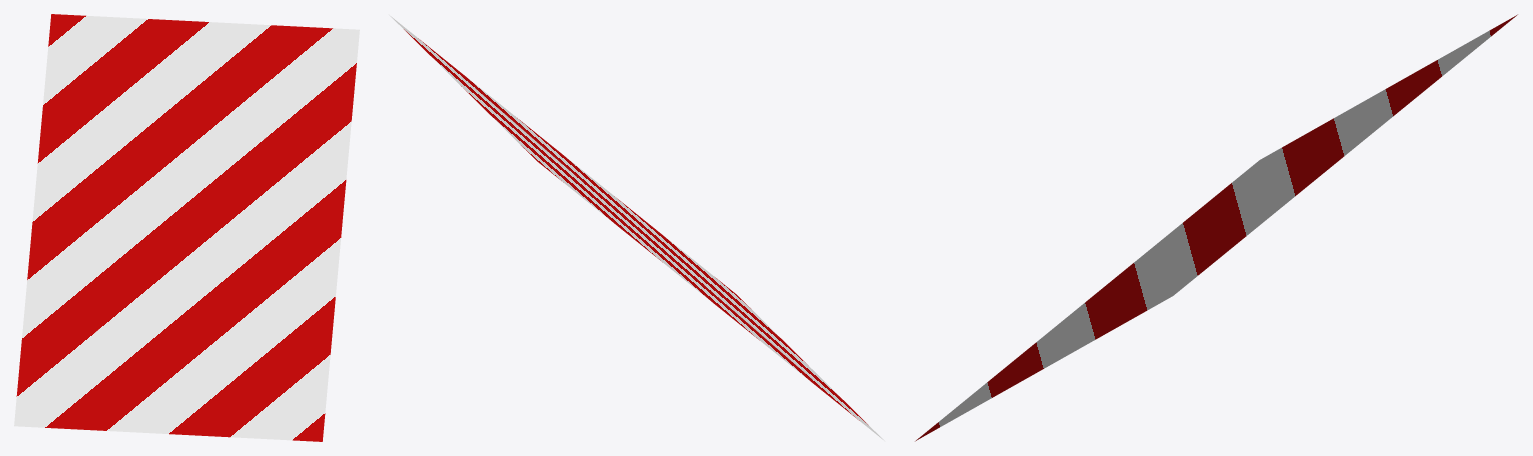
The model's file is Dam_Alpha_83.glb.
3 views of the same model, side by side, from view 1: azimuth 30°, elevation 25°; view 2: azimuth 150°, elevation 25°; view 3: azimuth 270°, elevation 25° (orthographic). The views are drawn at different scales.
Parts seen in each view (by area): view 1: Dam_Alpha_83; view 2: Dam_Alpha_83; view 3: Dam_Alpha_83.
Boxes of the visible parts, bbox=[...] form: Dam_Alpha_83: bbox=[14, 14, 359, 441]; Dam_Alpha_83: bbox=[389, 15, 884, 440]; Dam_Alpha_83: bbox=[915, 14, 1517, 441].
Bounding box in the file's own units: 4.38 × 3.12 × 4.38.
Materials: 1 (1 with a texture image).
